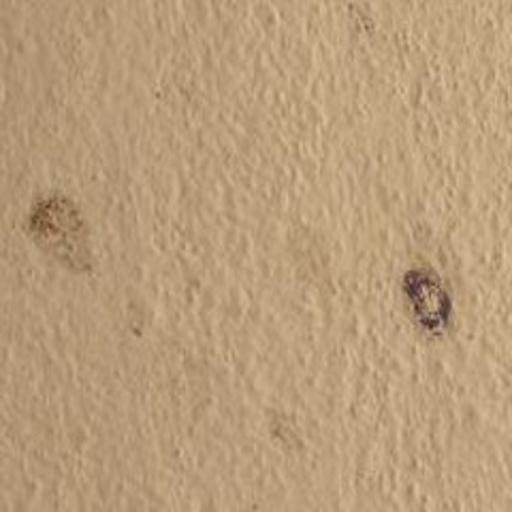stain: (20, 174, 114, 291), (401, 269, 468, 348), (266, 399, 316, 454), (118, 276, 157, 346)
